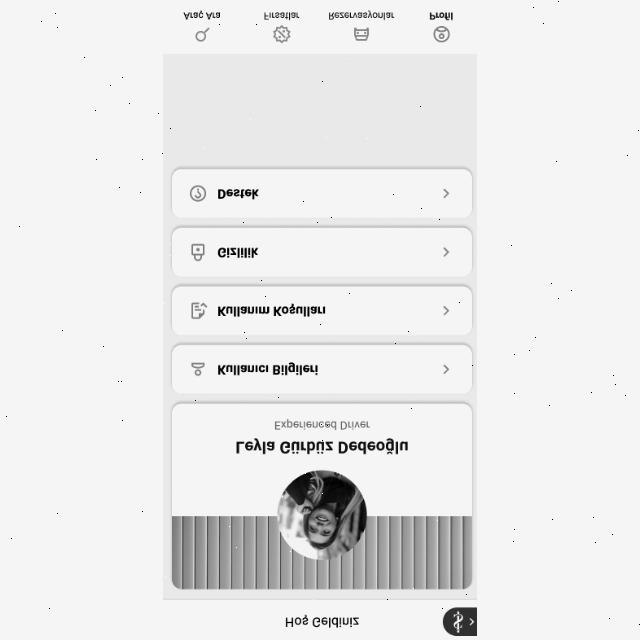QLabel: (232, 438, 410, 456), (215, 304, 328, 318), (216, 362, 320, 376), (268, 418, 372, 432), (282, 615, 361, 631), (328, 11, 397, 21), (218, 245, 260, 259), (217, 188, 261, 200), (183, 10, 221, 20), (263, 12, 301, 21), (428, 11, 454, 21)
VAppBar: (163, 600, 477, 640)
VBottomNavigation: (163, 0, 477, 56)
VCard: (170, 401, 476, 591)
VExpansionPanel: (172, 344, 474, 396), (172, 225, 474, 277), (171, 168, 473, 218), (172, 286, 474, 336)
VIcon: (190, 301, 208, 321), (189, 242, 207, 262), (189, 183, 205, 203), (273, 26, 291, 42), (434, 26, 451, 42), (191, 360, 205, 378), (196, 26, 210, 42), (354, 28, 370, 40)
VImg: (276, 472, 368, 560), (443, 608, 477, 638)
